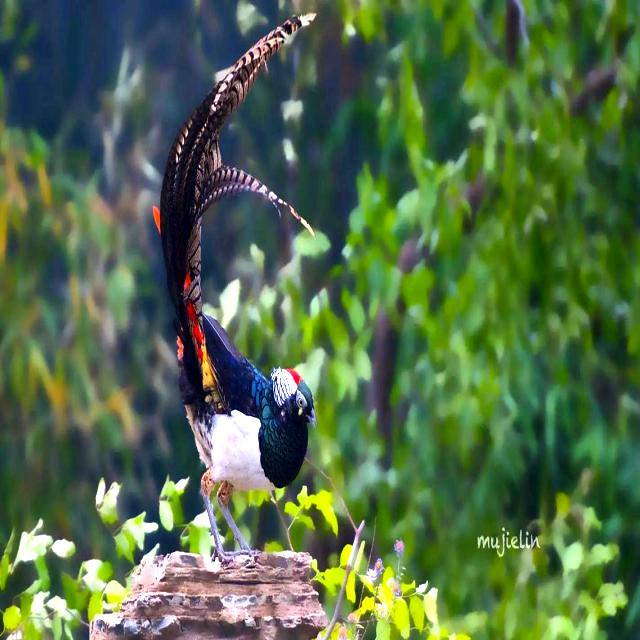Chrysolophus amherstiae: (157, 14, 314, 401)
